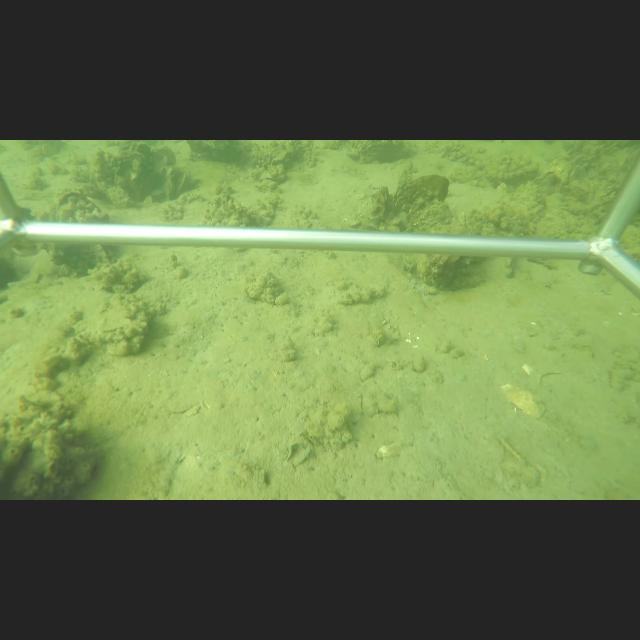Oyster-Closed: (175, 172, 190, 196), (163, 176, 176, 199)
